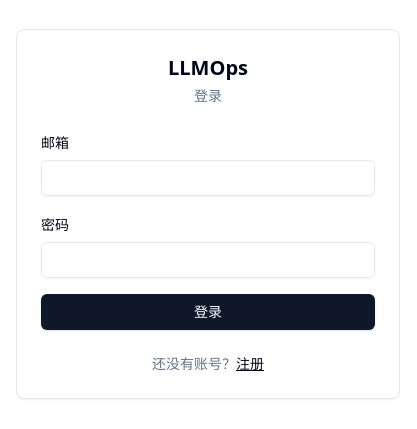
Test case: LoginPage › 邮箱格式非法 → 显示校验错误且不提交
Type "bad" into the field labelled "邮箱" at (208, 178), box [41,160,375,196]
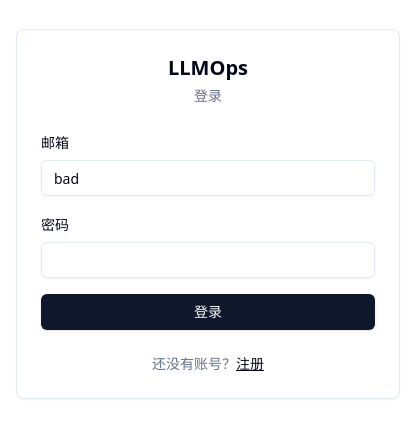
Type "x" into the password field labelled "密码" at (208, 260), box [41,242,375,278]
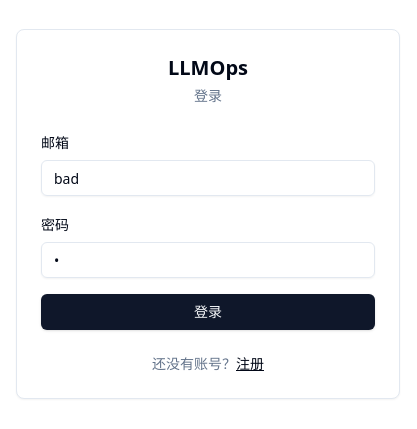
Click the button "登录" at (208, 312), box [41,294,375,330]
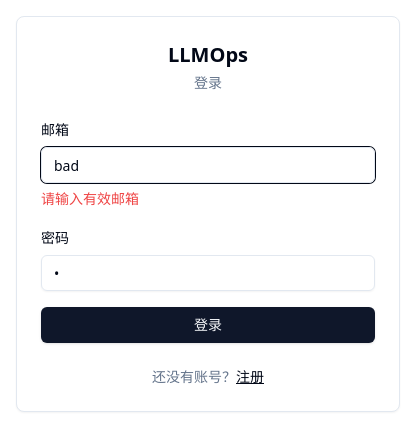
Now the text "请输入有效邮箱" is shown, box [41,189,139,208]
